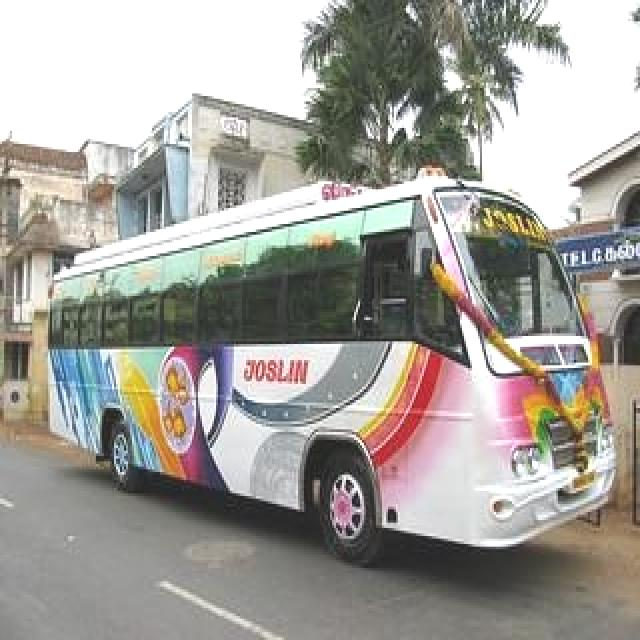Bus: (42, 165, 625, 565)
